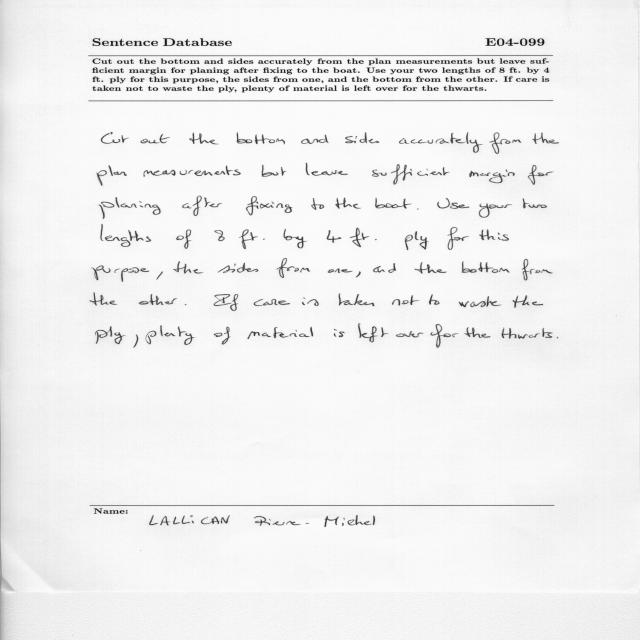word: (399, 132, 483, 153), (372, 164, 449, 185), (99, 197, 160, 219), (101, 224, 151, 247), (143, 166, 241, 177), (92, 265, 150, 282), (146, 325, 195, 345), (246, 196, 293, 215), (183, 196, 223, 216), (247, 327, 313, 339), (489, 132, 521, 154), (431, 324, 459, 348), (277, 258, 310, 278), (522, 259, 553, 280), (97, 165, 127, 186), (469, 170, 515, 183), (237, 133, 285, 145), (462, 261, 510, 273), (502, 328, 553, 339), (306, 163, 348, 176), (95, 327, 125, 345), (358, 324, 388, 342), (528, 165, 554, 185), (239, 230, 265, 250), (350, 228, 377, 247), (447, 227, 469, 250), (479, 203, 512, 218), (459, 297, 502, 308), (339, 294, 375, 307), (283, 229, 307, 248), (405, 231, 429, 250), (139, 294, 177, 305), (218, 263, 259, 273), (214, 294, 238, 311), (375, 198, 412, 209), (173, 261, 203, 274), (513, 295, 543, 308), (345, 133, 379, 144), (414, 263, 447, 274), (479, 229, 509, 241), (437, 198, 469, 209), (90, 293, 117, 306), (190, 133, 219, 145), (101, 132, 129, 144), (532, 132, 559, 144), (214, 327, 231, 345), (262, 165, 287, 177), (176, 229, 191, 249), (392, 295, 419, 306), (141, 134, 170, 144), (335, 198, 361, 209), (465, 327, 491, 338), (254, 299, 290, 306), (301, 135, 328, 144), (523, 199, 547, 209), (373, 263, 396, 273), (396, 331, 424, 338), (327, 230, 342, 243), (312, 198, 325, 210), (302, 297, 319, 306), (328, 268, 353, 273), (214, 230, 225, 241), (429, 294, 439, 305), (334, 329, 344, 337), (134, 335, 139, 348), (157, 271, 163, 280), (356, 272, 361, 278), (417, 209, 419, 210), (557, 337, 559, 338), (185, 304, 186, 305)
